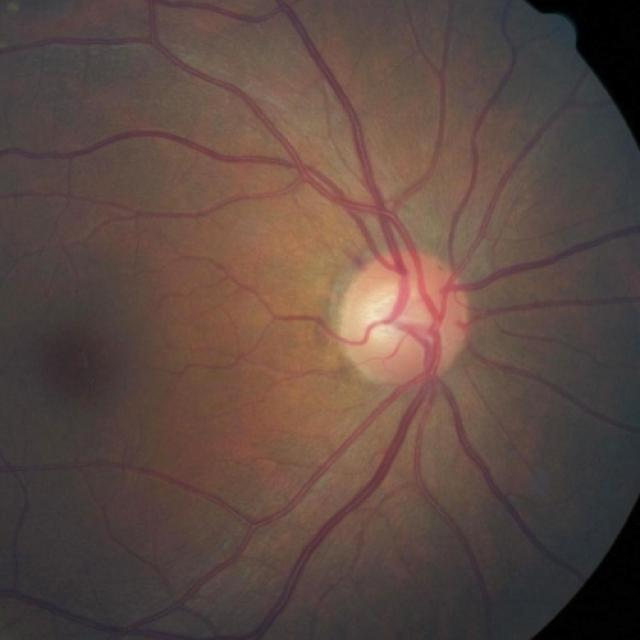OC: (364, 283, 432, 350)
OD: (340, 249, 470, 387)
